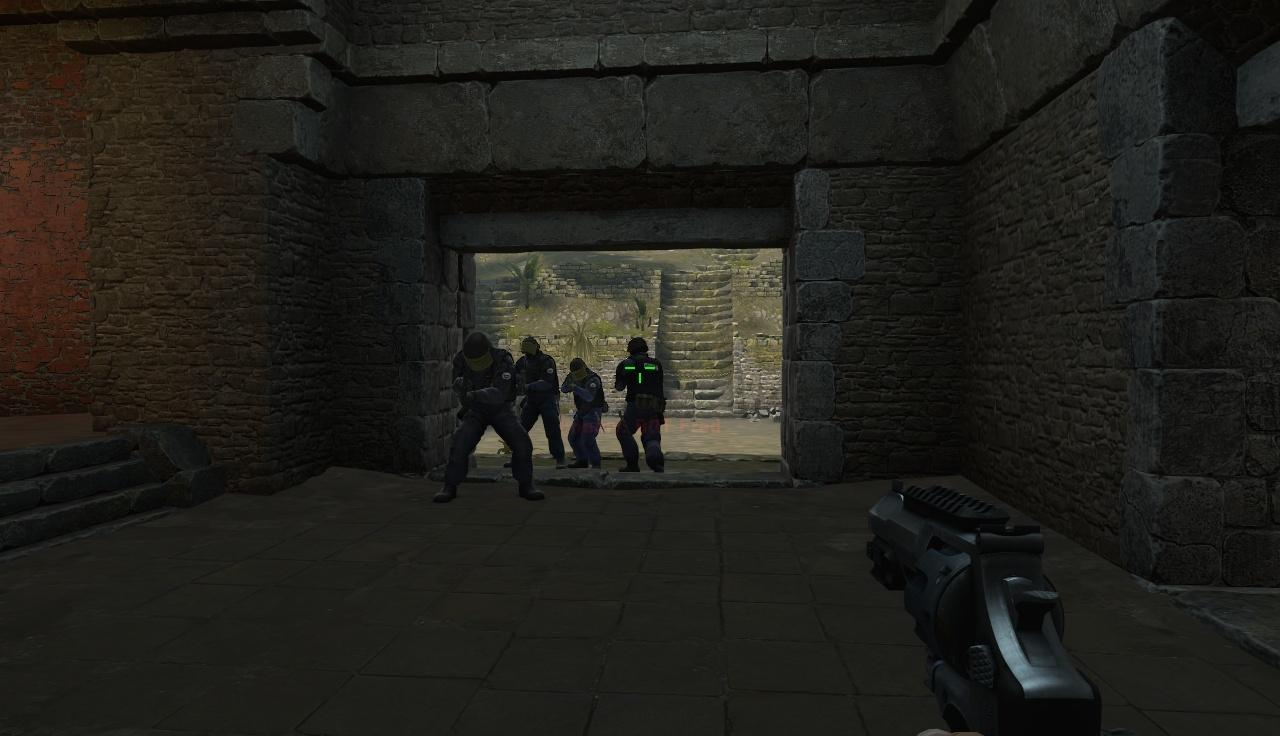ct: (442, 331, 521, 498), (617, 336, 665, 475), (517, 332, 561, 463), (563, 357, 605, 473)
cthead: (464, 332, 499, 371), (521, 336, 546, 360), (629, 339, 650, 361), (569, 358, 587, 377)
pistol: (856, 484, 1120, 736)
